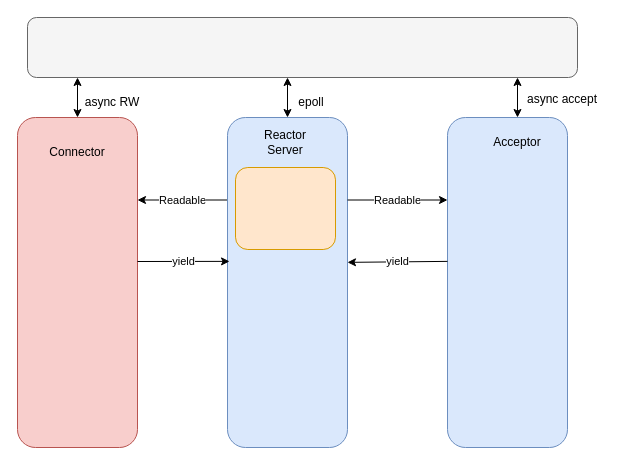
Image size: 625x465. Some labels were removed from this diagram. Each missing label, with the centre of its shape:
"Conns" belongs at [285,208].
"Net" belongs at [302,47].
